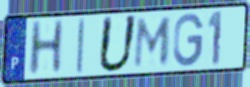1: (206, 9, 224, 68)
G: (172, 12, 206, 69)
H: (26, 18, 66, 79)
I: (75, 17, 87, 77)
M: (132, 16, 174, 70)
U: (96, 14, 140, 75)
